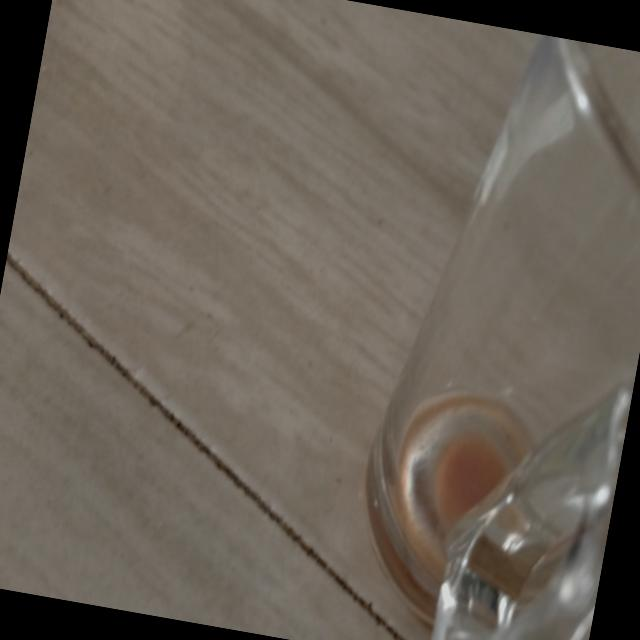glass-VX4N: (332, 17, 640, 640)
